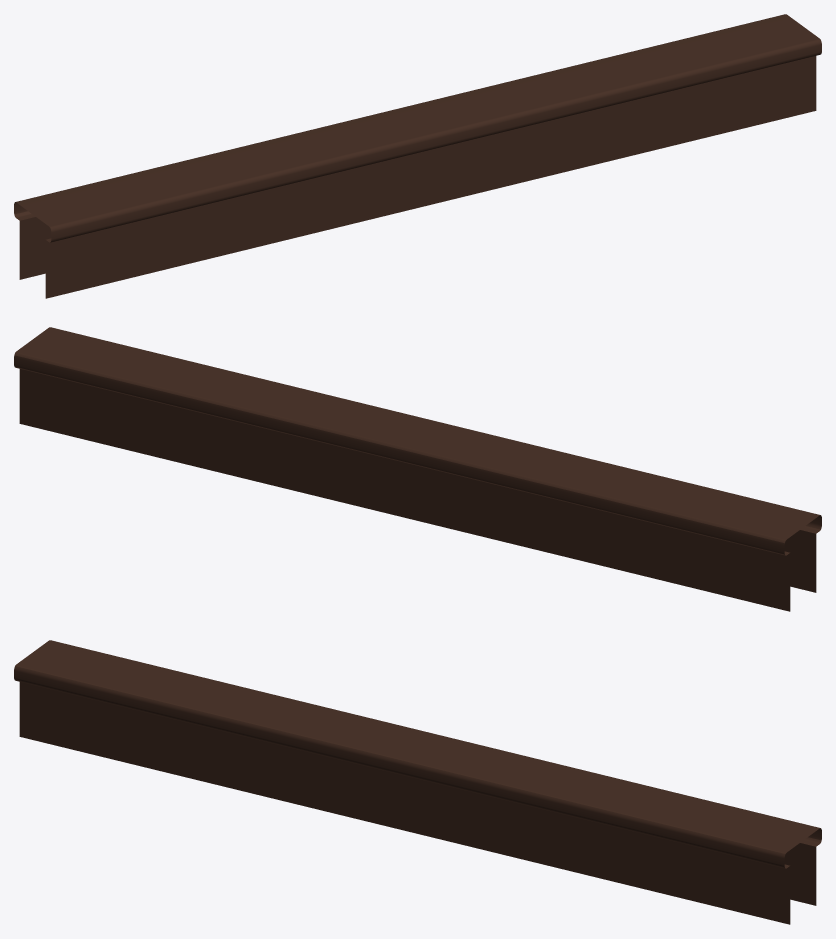
The model's file is SM_ZenBoard_01a.fbx.
The picture shows the model from 3 angles, top to bottom: view 1: azimuth 30°, elevation 25°; view 2: azimuth 150°, elevation 25°; view 3: azimuth 330°, elevation 25°; orthographic projection.
Parts seen in each view (by area): view 1: SM_ZenBoard_01a; view 2: SM_ZenBoard_01a; view 3: SM_ZenBoard_01a.
Part boxes in pixels (box(x1,y1,x2,y2)): SM_ZenBoard_01a: box(14, 14, 821, 298); SM_ZenBoard_01a: box(14, 327, 821, 611); SM_ZenBoard_01a: box(14, 640, 821, 924).
Bounding box in the file's own units: 1400 × 130 × 118.
